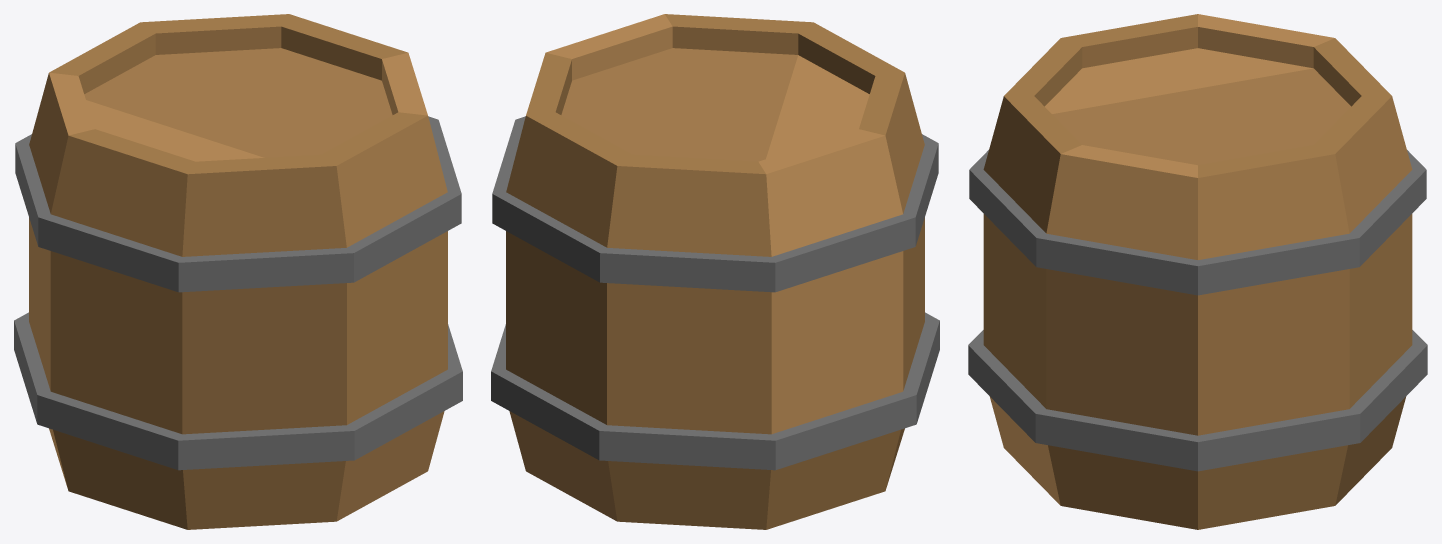
Rendered from barrel2.fbx.
3 renders of one model, left to right at view 1: azimuth 30°, elevation 25°; view 2: azimuth 150°, elevation 25°; view 3: azimuth 270°, elevation 25°, orthographic.
Visible parts, largest first — view 1: barrel2:Mesh; view 2: barrel2:Mesh; view 3: barrel2:Mesh.
Part boxes in pixels (left/top/right/bottom): barrel2:Mesh: left=14, top=14, right=462, bottom=529; barrel2:Mesh: left=491, top=14, right=939, bottom=529; barrel2:Mesh: left=968, top=14, right=1427, bottom=529.
Size of the model in its own units: 2.37 by 2 by 2.37.
